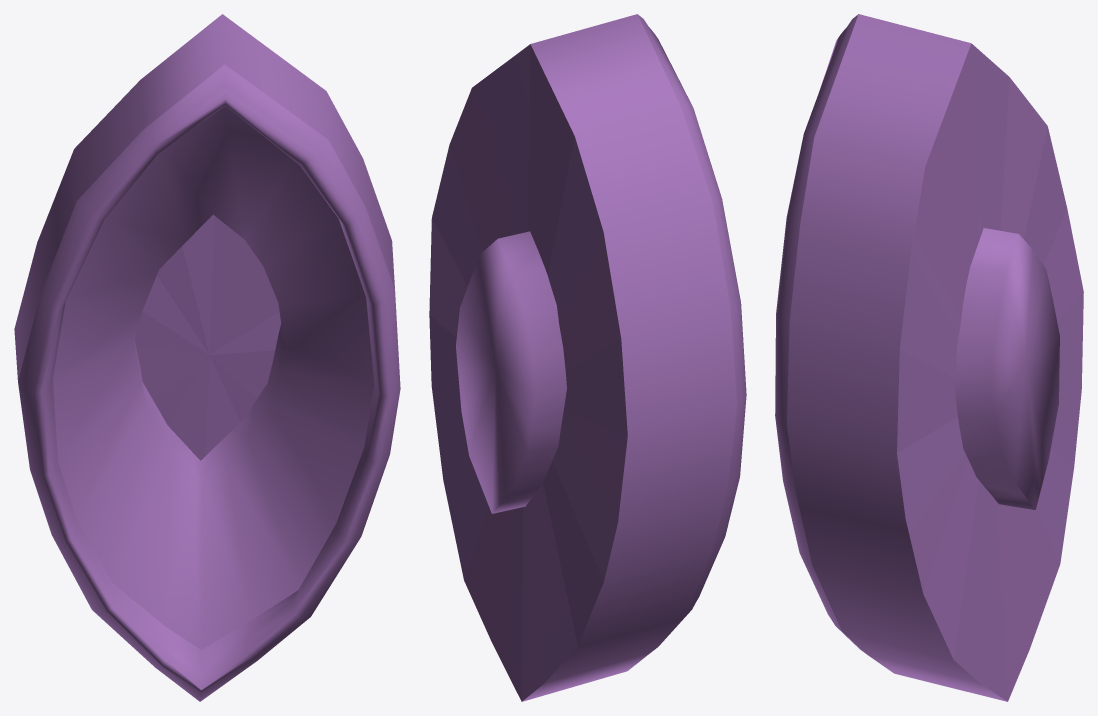
Rendered from TL2_8shapes_Marquise_Classic_Metal.001 2.glb.
3 views of the same model, side by side, from view 1: azimuth 30°, elevation 25°; view 2: azimuth 150°, elevation 25°; view 3: azimuth 270°, elevation 25° (orthographic). The views are drawn at different scales.
Visible parts, largest first — view 1: TL2_8shapes_Marquise_Classic_Metal.001; view 2: TL2_8shapes_Marquise_Classic_Metal.001; view 3: TL2_8shapes_Marquise_Classic_Metal.001.
Part boxes in pixels (bbox=[...]): TL2_8shapes_Marquise_Classic_Metal.001: bbox=[14, 14, 400, 701]; TL2_8shapes_Marquise_Classic_Metal.001: bbox=[429, 14, 746, 701]; TL2_8shapes_Marquise_Classic_Metal.001: bbox=[775, 14, 1083, 701].
Bounding box in the file's own units: 0.4339 × 0.7826 × 0.3287.
